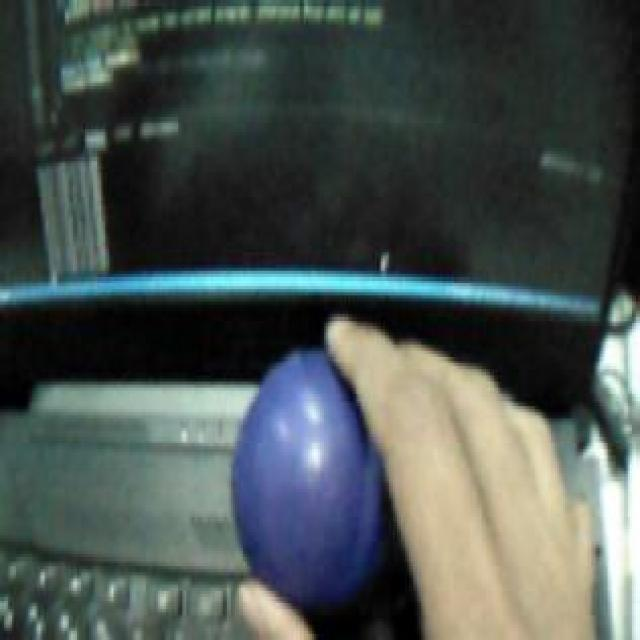BallPurple: (232, 350, 392, 598)
